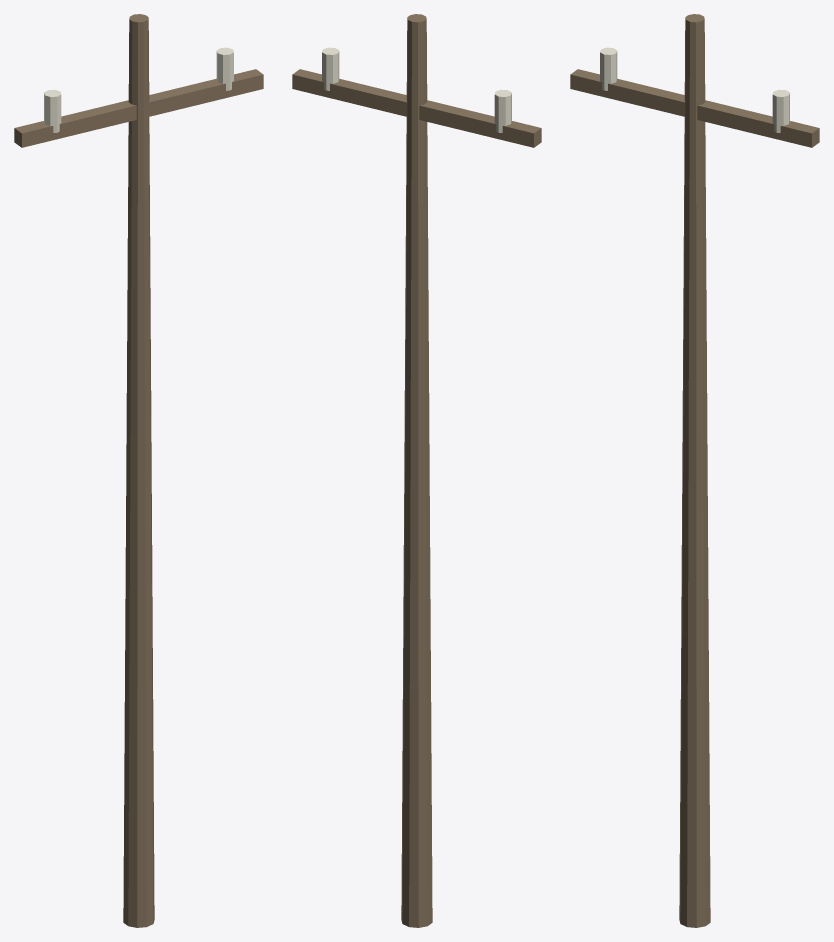
Rendered from pole.glb.
3 views of the same model, side by side, from view 1: azimuth 30°, elevation 25°; view 2: azimuth 150°, elevation 25°; view 3: azimuth 330°, elevation 25° (orthographic).
Parts seen in each view (by area): view 1: wood, ivory; view 2: wood, ivory; view 3: wood, ivory.
Part boxes in pixels (bbox=[...]): wood: bbox=[14, 14, 263, 927]; ivory: bbox=[44, 47, 233, 132]; wood: bbox=[292, 14, 541, 927]; ivory: bbox=[322, 47, 511, 132]; wood: bbox=[570, 14, 819, 927]; ivory: bbox=[600, 47, 789, 132].
Size of the model in its own units: 2.8 by 10 by 0.32.
